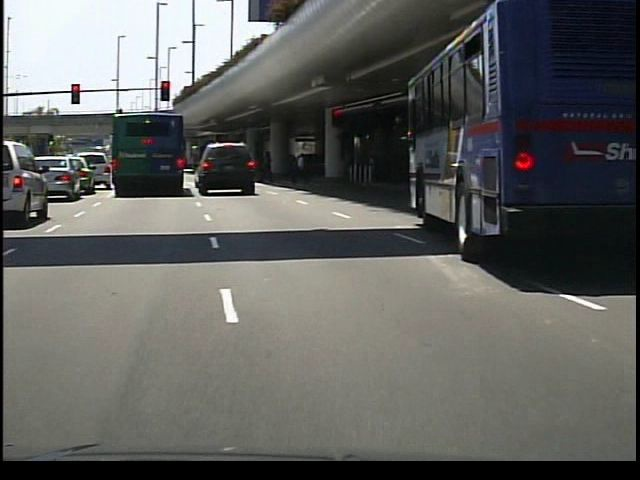person: (259, 146, 280, 185), (292, 149, 312, 186)
